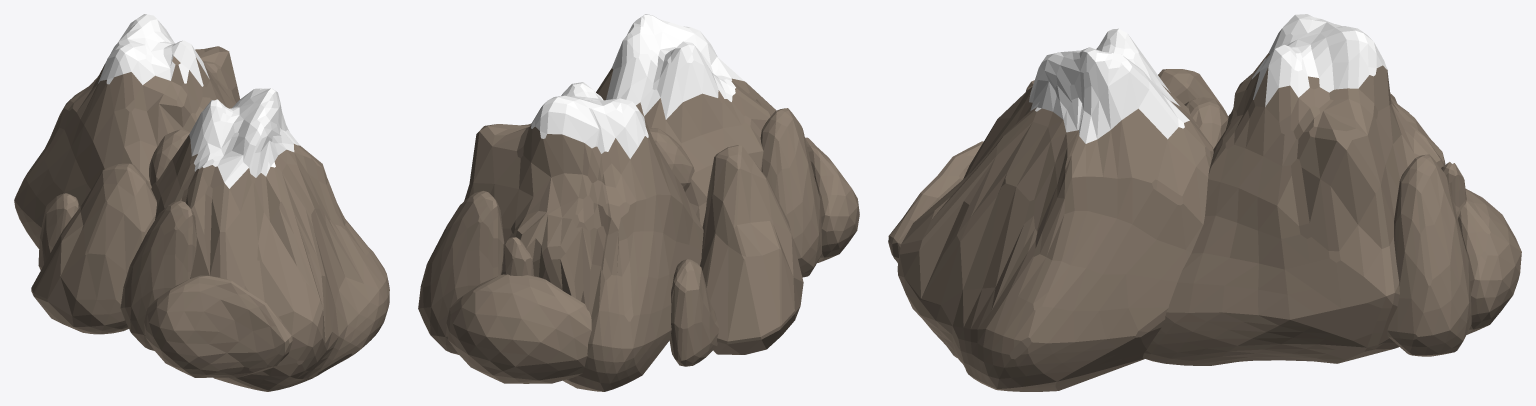
The model's file is mountain2.fbx.
The picture shows the model from 3 angles, left to right: view 1: azimuth 30°, elevation 25°; view 2: azimuth 150°, elevation 25°; view 3: azimuth 270°, elevation 25°; orthographic projection. The views are drawn at different scales.
Visible parts, largest first — view 1: Icosphere.256; view 2: Icosphere.256; view 3: Icosphere.256.
Part boxes in pixels (box(x1,y1,x2,y2)): Icosphere.256: box(14, 14, 389, 391); Icosphere.256: box(418, 14, 859, 391); Icosphere.256: box(888, 14, 1521, 391).
Size of the model in its own units: 2600 by 2449 by 4142.
